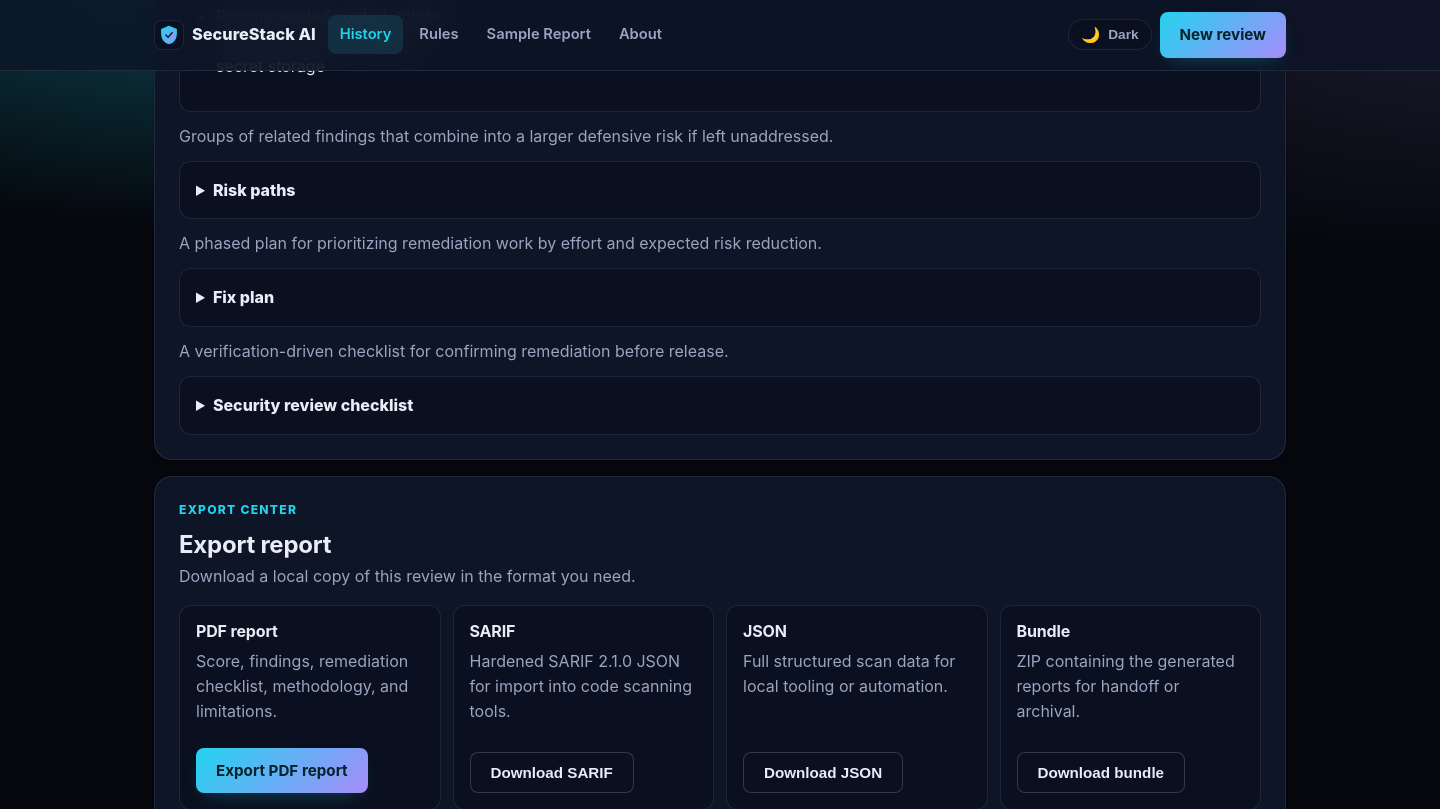
Test: results page › mocked checklist renders status and category
(page scrolled)
Click the heading "Security review checklist": (313, 405) [213, 395, 413, 415]
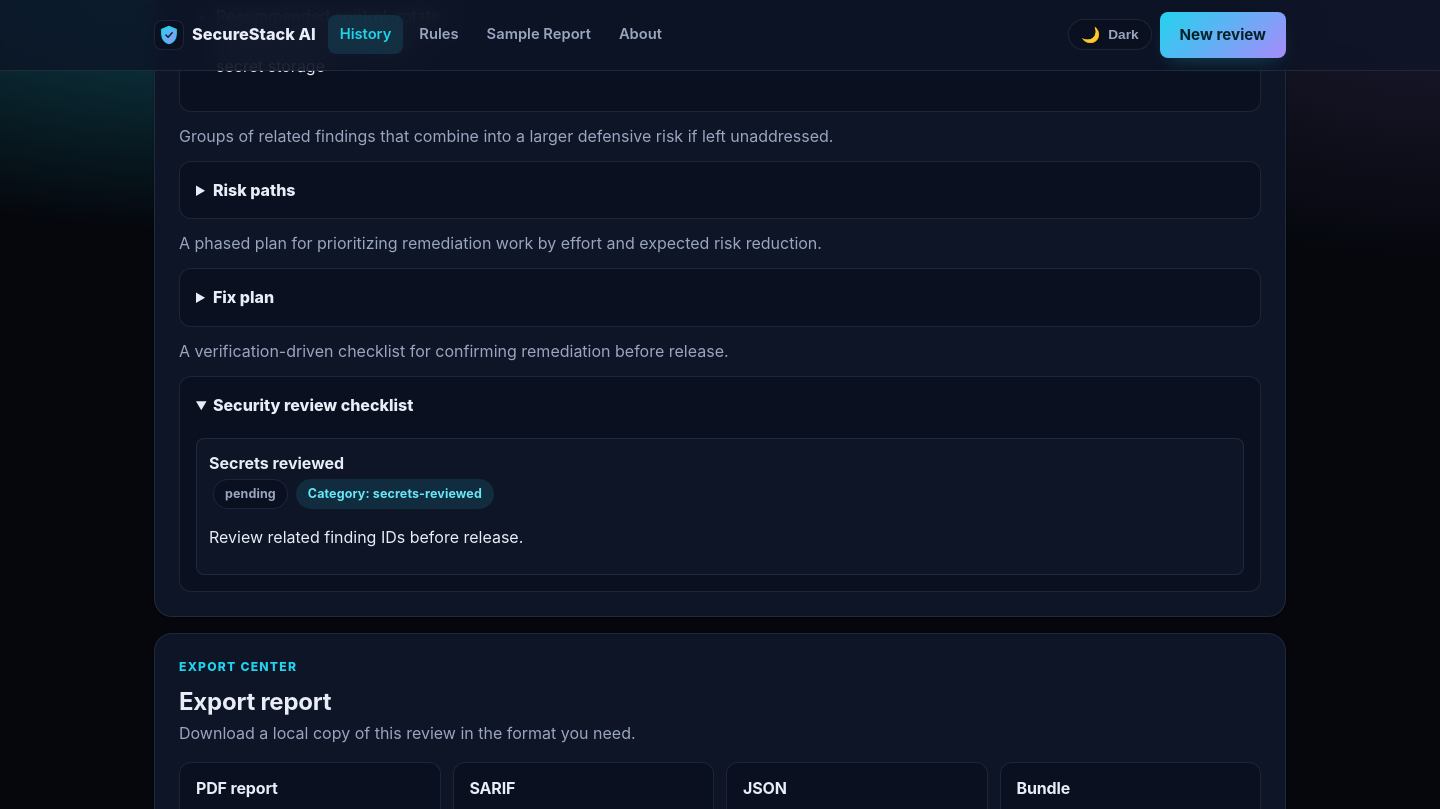
Result: the text "Secrets reviewed" is shown at [209, 453, 344, 473]
Result: the text "pending" is shown at [213, 479, 288, 509]
Result: the text "Category: secrets-reviewed" is shown at [296, 479, 494, 509]
